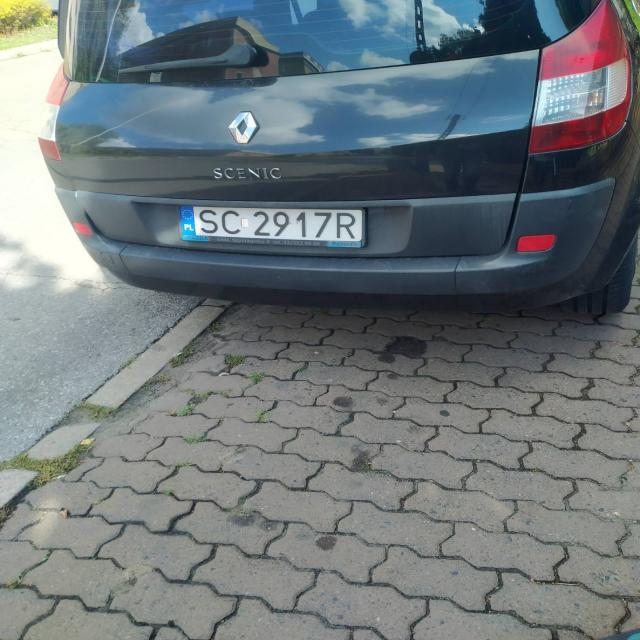pl_license_plate: (180, 206, 362, 240)
